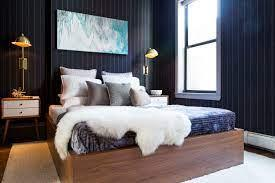TV: (55, 6, 130, 56)
bed: (46, 65, 247, 183)
light: (9, 34, 34, 97), (144, 47, 158, 96)
table: (3, 96, 44, 144), (147, 93, 171, 106)
